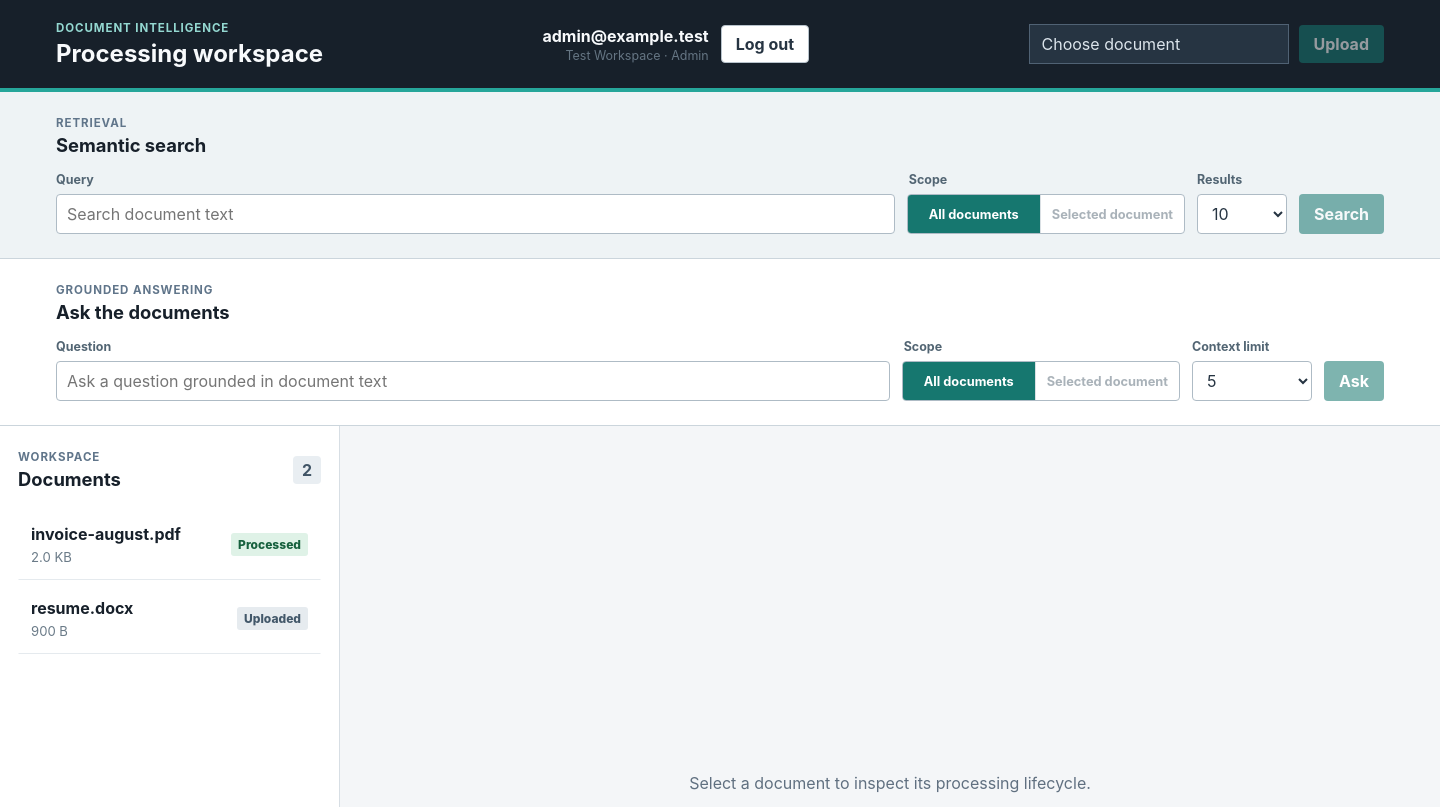
document workspace › queues reprocessing and guards the action while the new job is active
This screenshot has width=1440, height=807.
Click the button "invoice-august.pdf 2.0 KB Processed" at (170, 544), box [18,508,321,580]
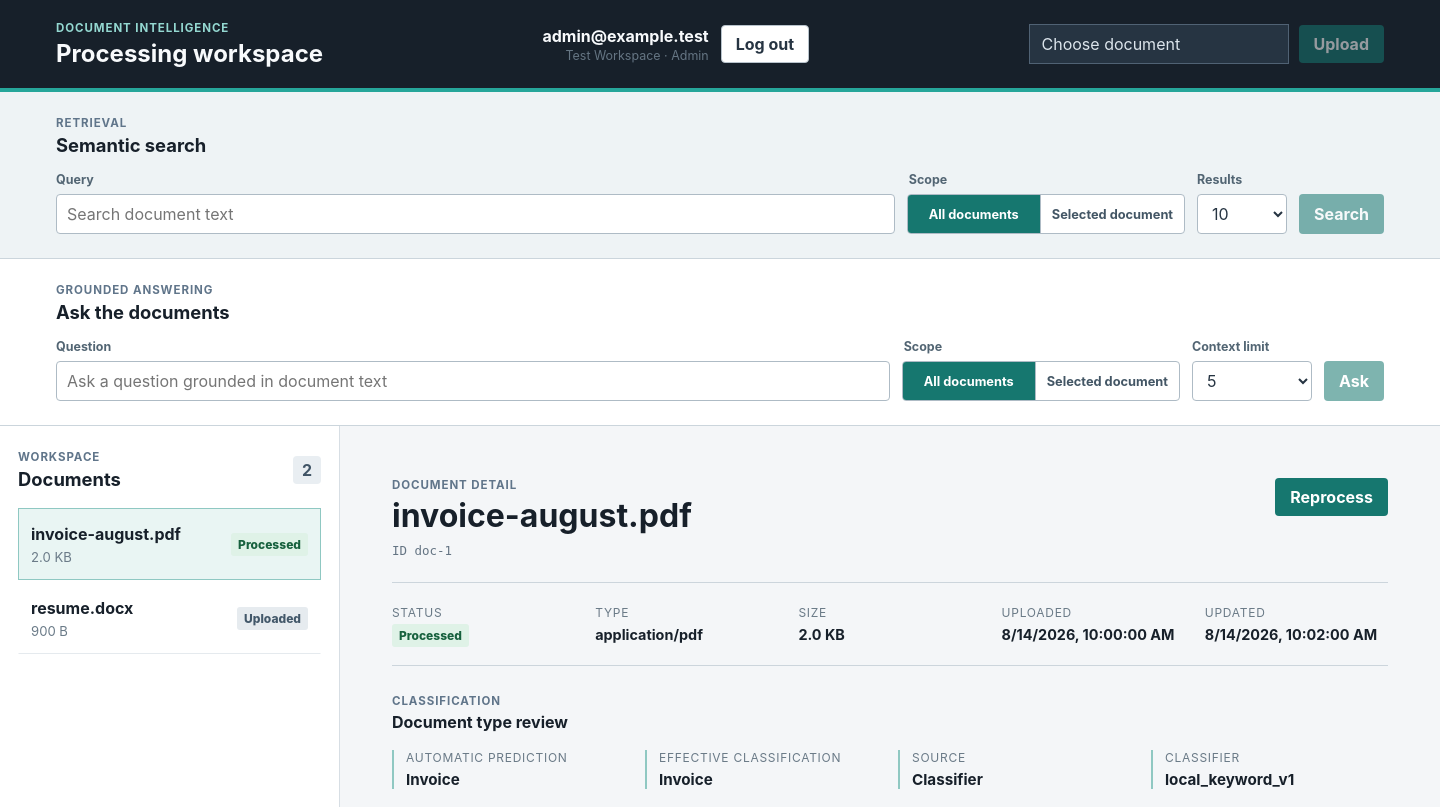
Click the button "Reprocess" at (1332, 497), box [1275,478,1388,516]
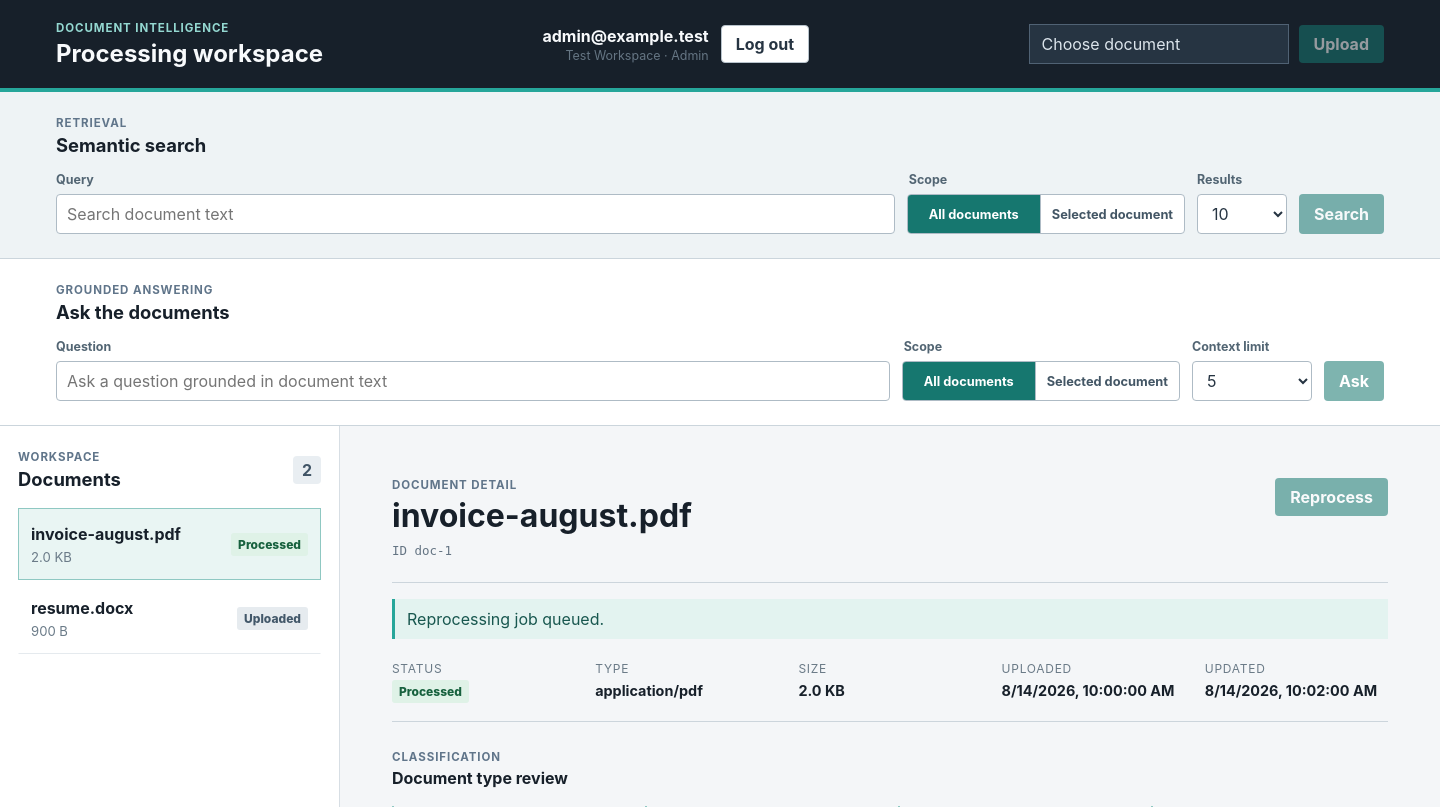
Result: the text "Reprocessing job queued." is shown at [392,599,1388,639]
Result: the button "Reprocess" is disabled at [1275,478,1388,516]
